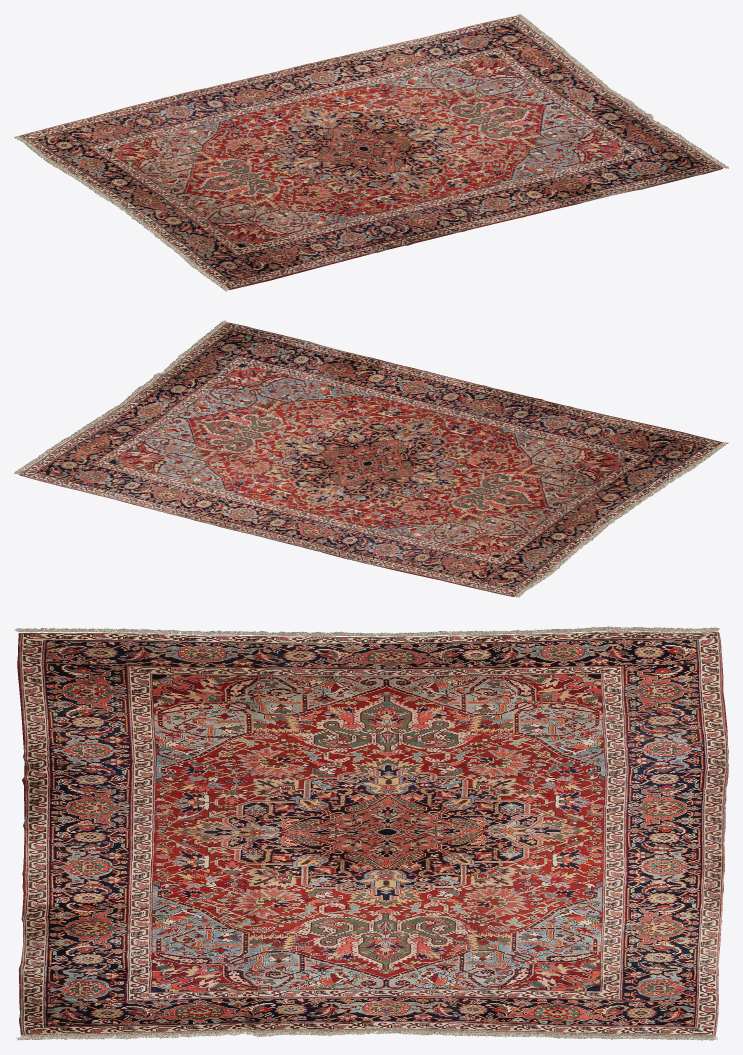
The model's file is fine-persian-heriz-carpet.glb.
3 renders of one model, top to bottom at view 1: azimuth 30°, elevation 25°; view 2: azimuth 150°, elevation 25°; view 3: azimuth 270°, elevation 25°, orthographic. The views are drawn at different scales.
Visible parts, largest first — view 1: Fine Persian Heriz Carpet_2, frange1_0, frange2_1; view 2: Fine Persian Heriz Carpet_2, frange1_0, frange2_1; view 3: Fine Persian Heriz Carpet_2, frange2_1, frange1_0.
Part boxes in pixels (box(x1,y1,x2,y2)): Fine Persian Heriz Carpet_2: box(19, 16, 722, 289); frange1_0: box(14, 136, 228, 291); frange2_1: box(516, 14, 728, 168); Fine Persian Heriz Carpet_2: box(18, 322, 722, 596); frange1_0: box(515, 442, 728, 597); frange2_1: box(14, 320, 226, 474); Fine Persian Heriz Carpet_2: box(17, 631, 728, 1037); frange2_1: box(16, 1028, 717, 1040); frange1_0: box(14, 626, 720, 636).
Size of the model in its own units: 3 by 0.0172 by 2.2.
Materials: 2 (1 with a texture image).
